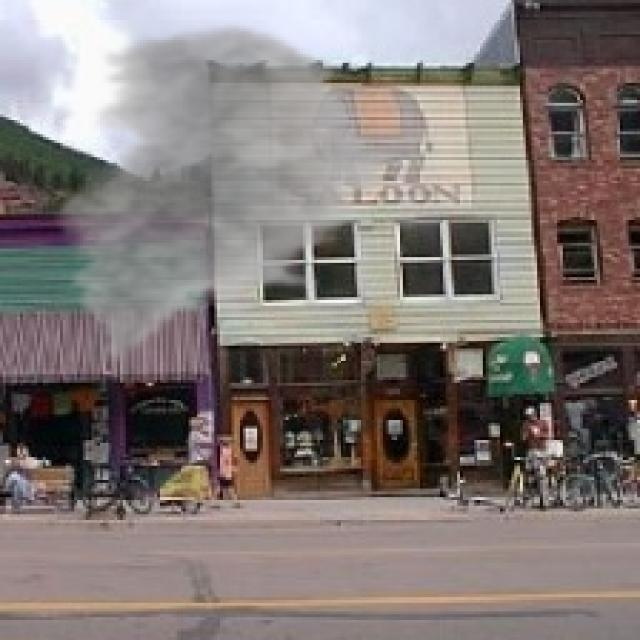smoke: (46, 20, 397, 366)
